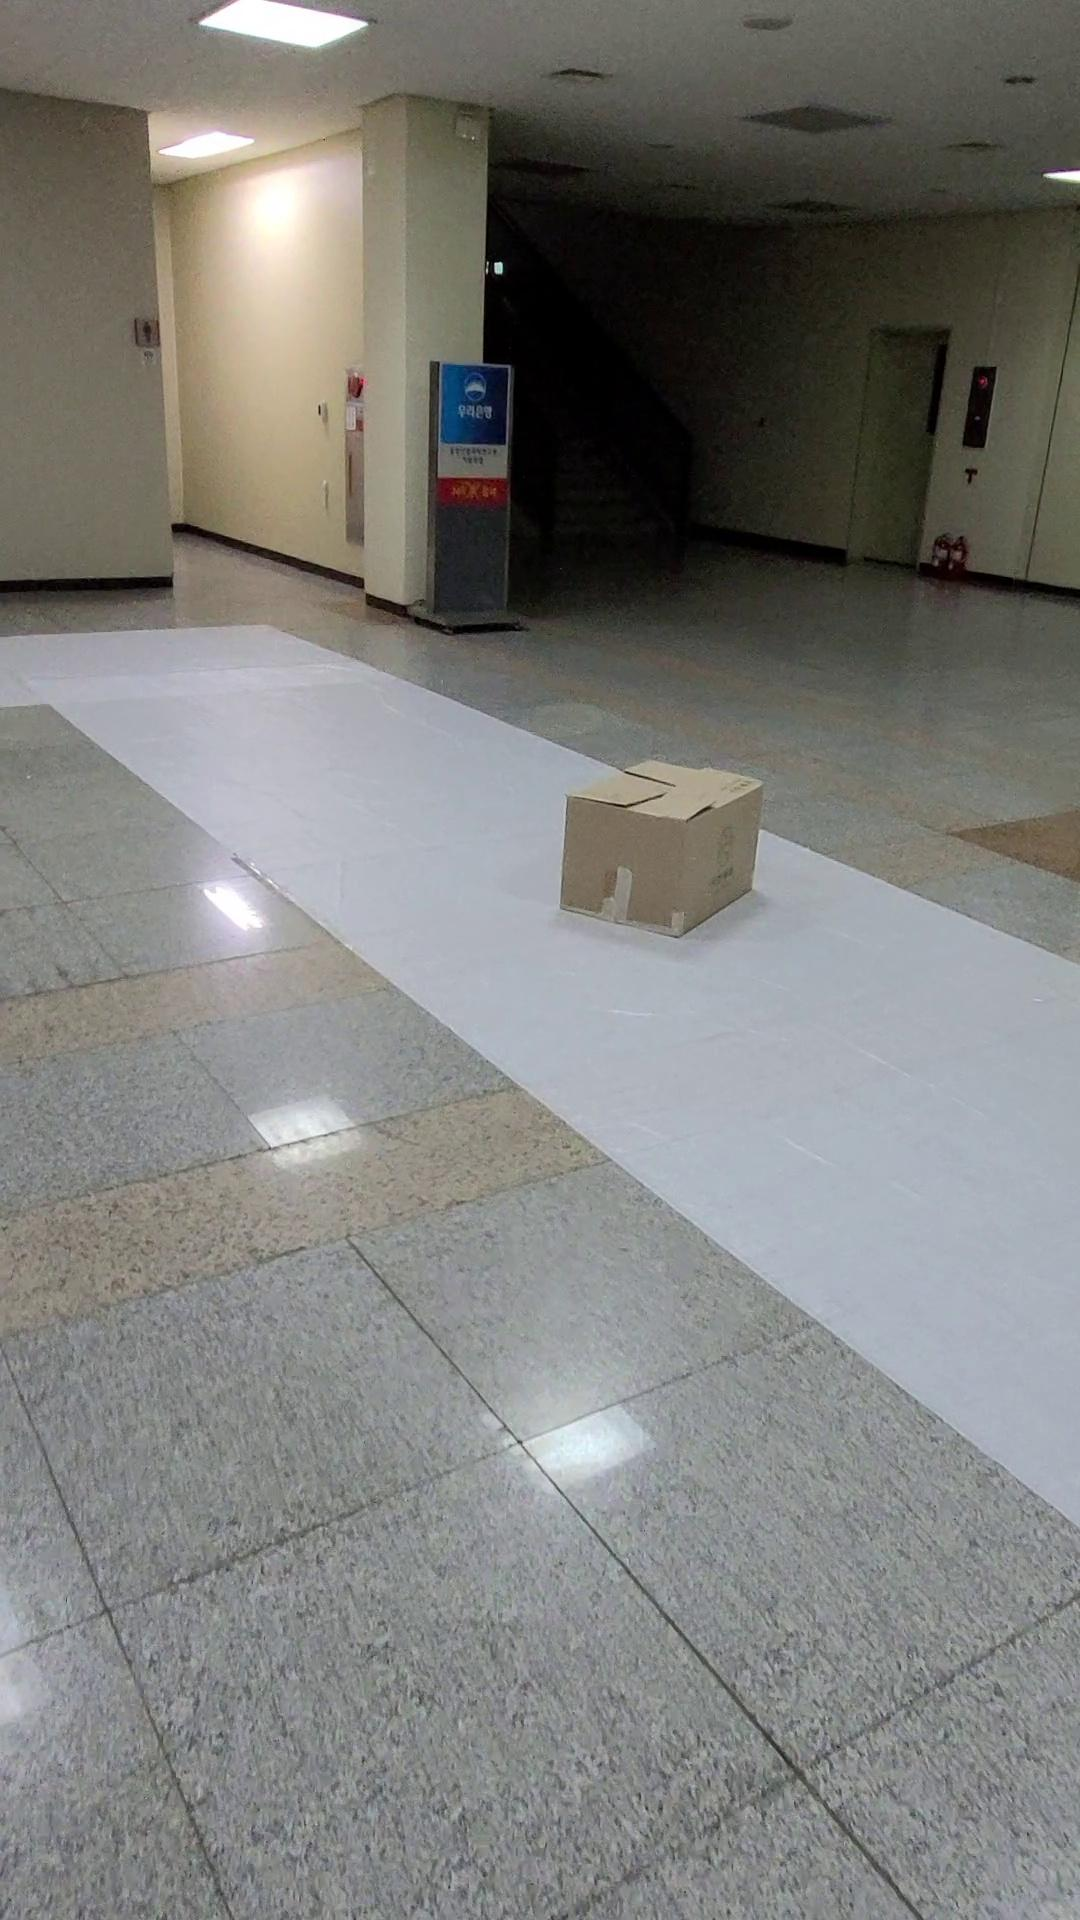Box: (533, 713, 799, 975)
